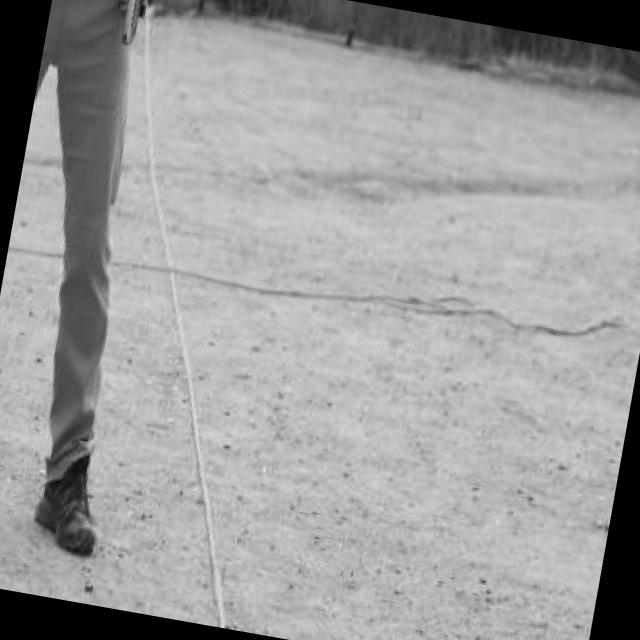Guns: (94, 0, 180, 57)
